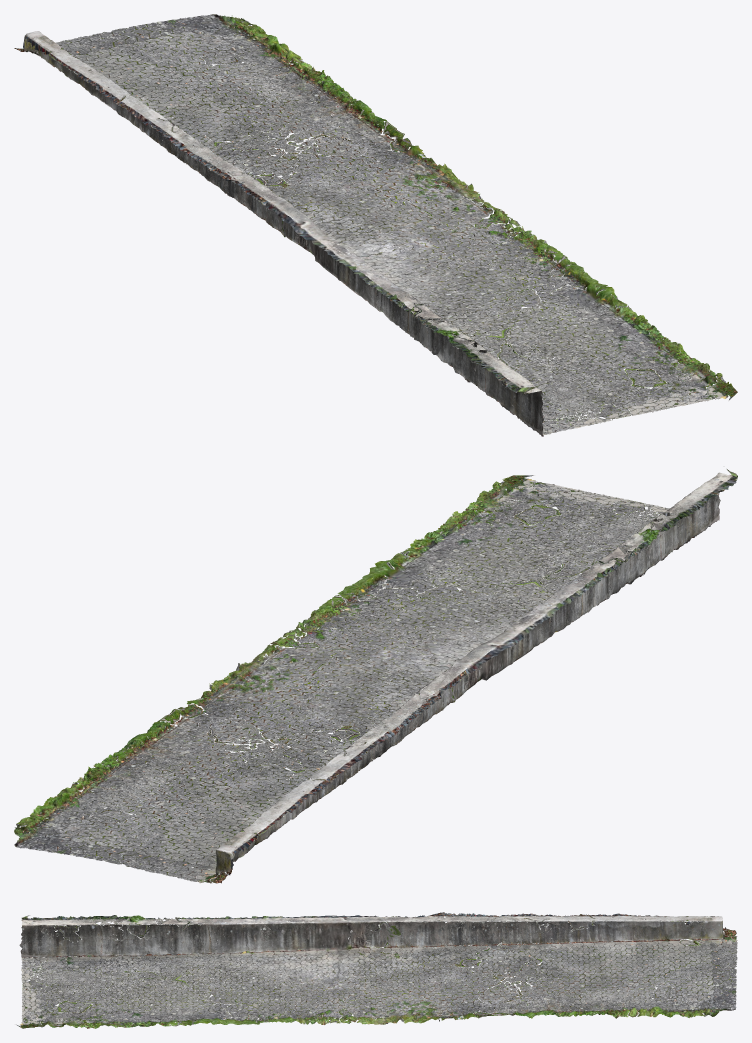
File: LongPavedWalkway_GameReady_GodotYUp_1K.glb
3 renders of one model, top to bottom at view 1: azimuth 30°, elevation 25°; view 2: azimuth 150°, elevation 25°; view 3: azimuth 270°, elevation 25°, orthographic. The views are drawn at different scales.
Parts seen in each view (by area): view 1: world; view 2: world; view 3: world.
Part boxes in pixels (x1,y1,x2,y2): world: [14, 14, 737, 436]; world: [14, 469, 737, 883]; world: [15, 912, 737, 1028].
Bounding box in the file's own units: 2.6 × 0.6501 × 10.03.
2 materials, 2 textured.
